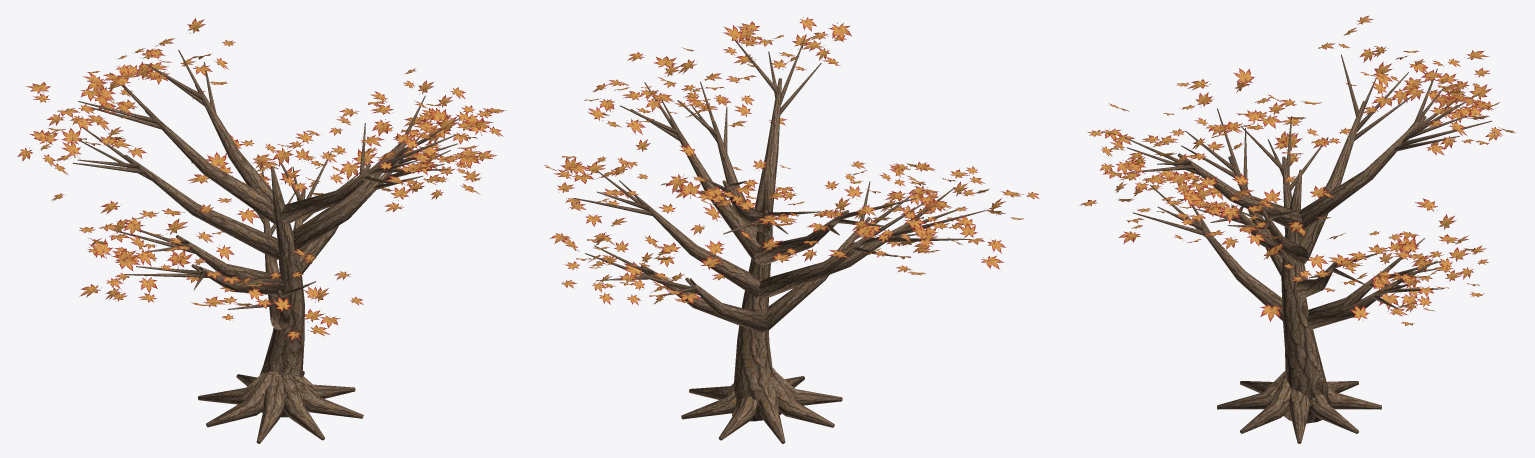
The model's file is Maple_Crafted_LOD.fbx.
3 views of the same model, side by side, from view 1: azimuth 30°, elevation 25°; view 2: azimuth 150°, elevation 25°; view 3: azimuth 270°, elevation 25° (orthographic). The views are drawn at different scales.
Parts seen in each view (by area): view 1: Maple_Crafted_LOD_Wood, Maple_Crafted_LOD_Leaves; view 2: Maple_Crafted_LOD_Wood, Maple_Crafted_LOD_Leaves; view 3: Maple_Crafted_LOD_Wood, Maple_Crafted_LOD_Leaves.
Part boxes in pixels (bbox=[...]): Maple_Crafted_LOD_Wood: bbox=[72, 49, 460, 443]; Maple_Crafted_LOD_Leaves: bbox=[17, 18, 505, 341]; Maple_Crafted_LOD_Wood: bbox=[573, 39, 985, 443]; Maple_Crafted_LOD_Leaves: bbox=[544, 17, 1039, 305]; Maple_Crafted_LOD_Wood: bbox=[1124, 54, 1492, 443]; Maple_Crafted_LOD_Leaves: bbox=[1079, 15, 1515, 325].
Size of the model in its own units: 1157 by 869 by 1088.
